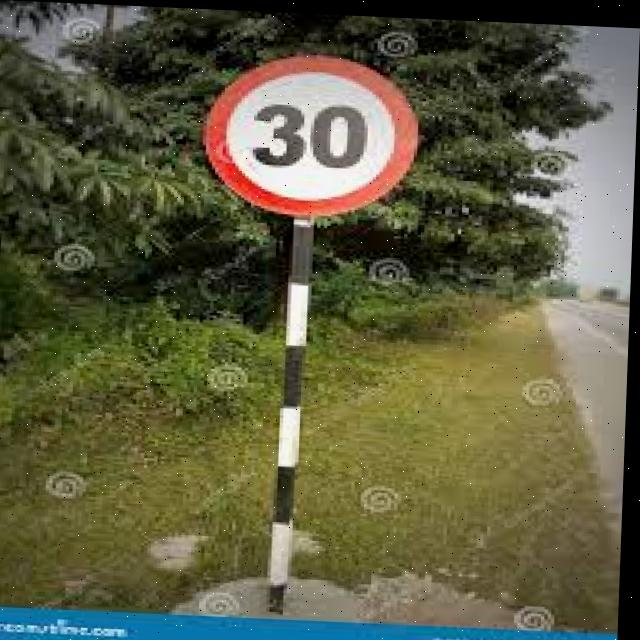Speed limit 30: (200, 44, 425, 220)
